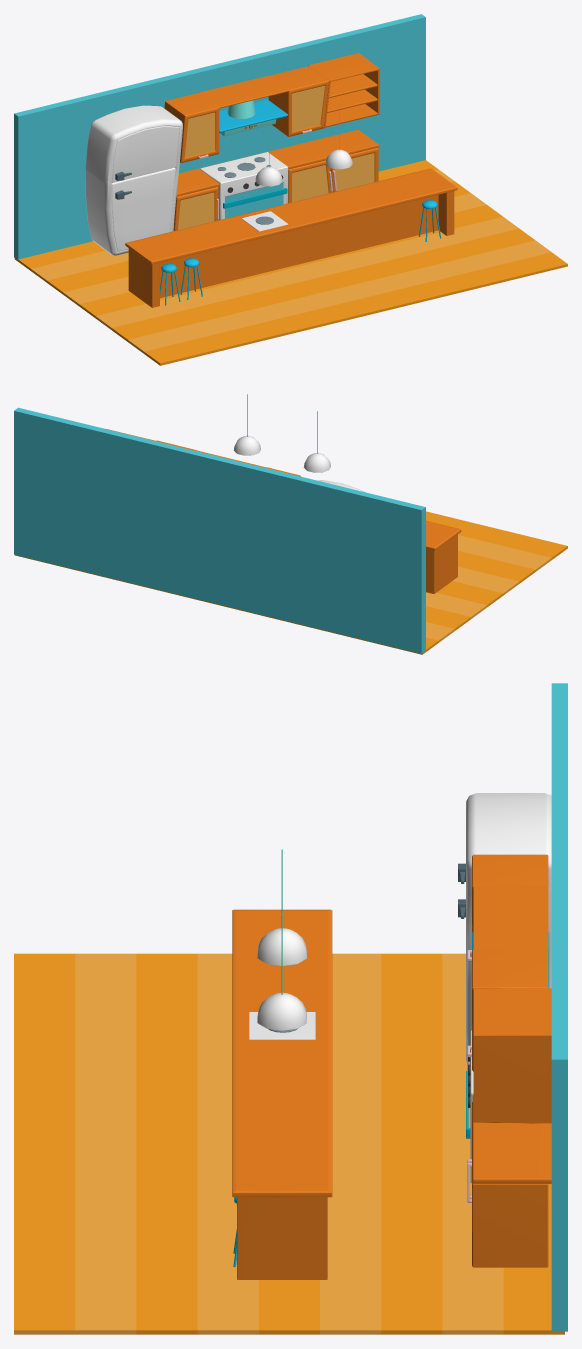
The model's file is pancake_kitchen.fbx.
The picture shows the model from 3 angles, top to bottom: view 1: azimuth 30°, elevation 25°; view 2: azimuth 150°, elevation 25°; view 3: azimuth 270°, elevation 25°; orthographic projection. The views are drawn at different scales.
Visible parts, largest first — view 1: kitchen, floor, counter, small_oven, lamp2, lamp1; view 2: kitchen, floor, counter, lamp2, lamp1; view 3: floor, kitchen, counter, lamp2, lamp1, small_oven.
Part boxes in pixels (x1=…): kitchen: x1=14, y1=14, x2=425, y2=259; floor: x1=14, y1=160, x2=567, y2=365; counter: x1=125, y1=168, x2=457, y2=307; small_oven: x1=241, y1=211, x2=288, y2=231; lamp2: x1=325, y1=108, x2=352, y2=169; lamp1: x1=255, y1=125, x2=282, y2=186; kitchen: x1=14, y1=407, x2=425, y2=653; floor: x1=15, y1=511, x2=567, y2=654; counter: x1=426, y1=520, x2=461, y2=593; lamp2: x1=233, y1=394, x2=260, y2=455; lamp1: x1=303, y1=411, x2=330, y2=472; floor: x1=14, y1=953, x2=564, y2=1334; kitchen: x1=458, y1=683, x2=567, y2=1331; counter: x1=232, y1=909, x2=332, y2=1279; lamp2: x1=257, y1=914, x2=306, y2=1030; lamp1: x1=257, y1=849, x2=306, y2=965; small_oven: x1=249, y1=1012, x2=315, y2=1039.
Bounding box in the file's own units: 23.48 × 7.99 × 14.6.
1 material, 1 textured.
